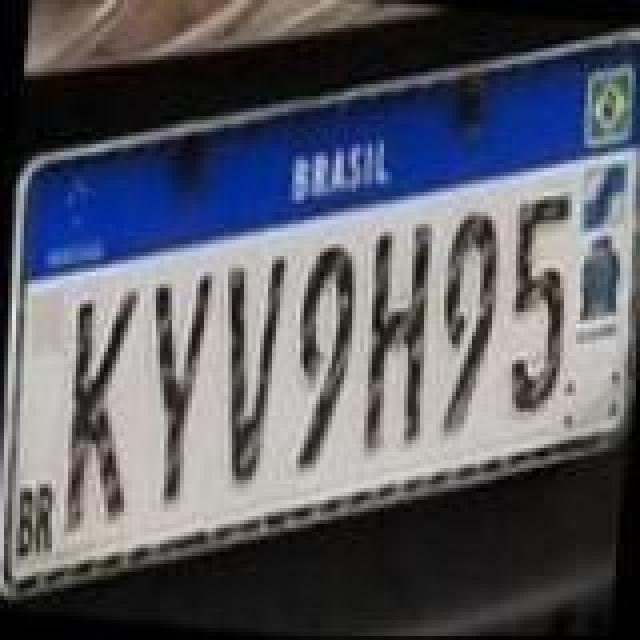5: (492, 188, 580, 420)
9: (422, 210, 506, 446), (284, 240, 364, 476)
H: (348, 214, 444, 466)
K: (48, 282, 148, 542)
V: (206, 244, 290, 484)
Y: (130, 266, 218, 510)
